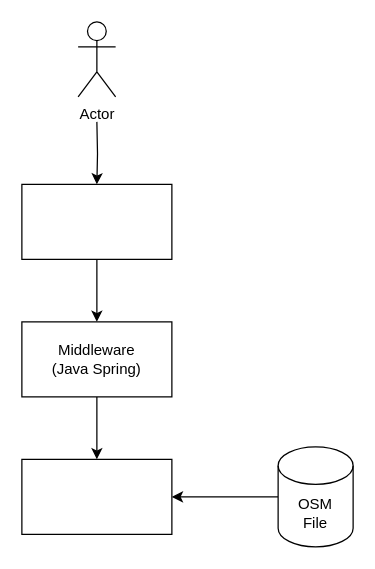
The diagram is 375 pixels wide and 569 high, and some of its shapes have lost their labels. The box of each missing label's shape, as (x1, y1, x2, y2) in pixels:
Backend (Java): (21, 458, 172, 534)
Frontend (HTML): (21, 183, 172, 259)
